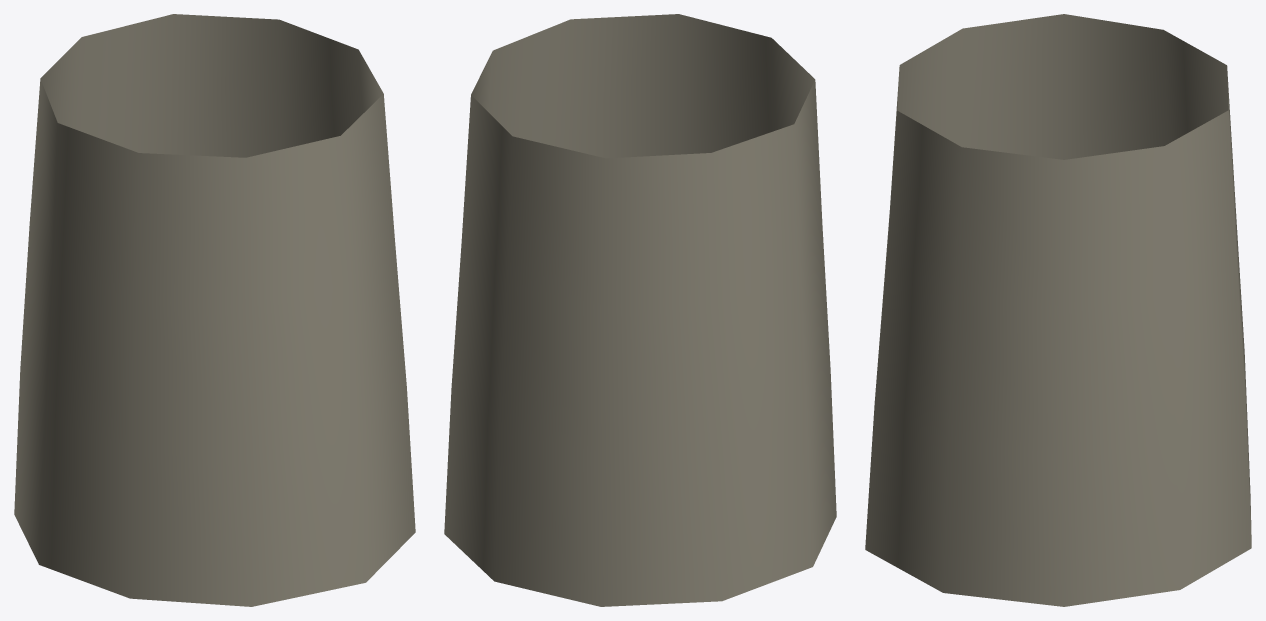
File: necro_armor_bracer.R.glb
3 views of the same model, side by side, from view 1: azimuth 30°, elevation 25°; view 2: azimuth 150°, elevation 25°; view 3: azimuth 270°, elevation 25° (orthographic).
Visible parts, largest first — view 1: necro_armor_bracer.R; view 2: necro_armor_bracer.R; view 3: necro_armor_bracer.R.
Boxes of the visible parts, <box> form: necro_armor_bracer.R: <box>14,14,415,606</box>; necro_armor_bracer.R: <box>444,14,836,606</box>; necro_armor_bracer.R: <box>865,14,1251,606</box>.
Size of the model in its own units: 0.1288 by 0.1562 by 0.1259.
